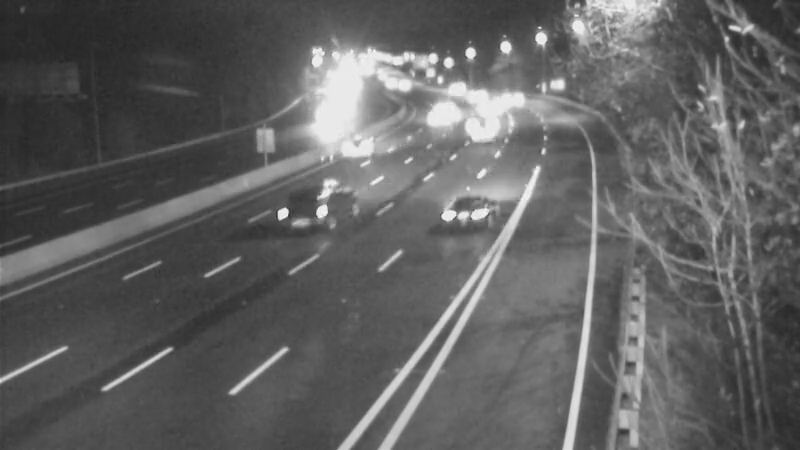vehicle: (431, 164, 511, 244), (280, 161, 360, 241), (425, 66, 475, 116), (481, 75, 531, 125), (451, 68, 501, 118), (420, 82, 470, 132), (459, 80, 509, 130), (411, 95, 461, 145), (459, 100, 509, 150), (331, 123, 381, 173)
